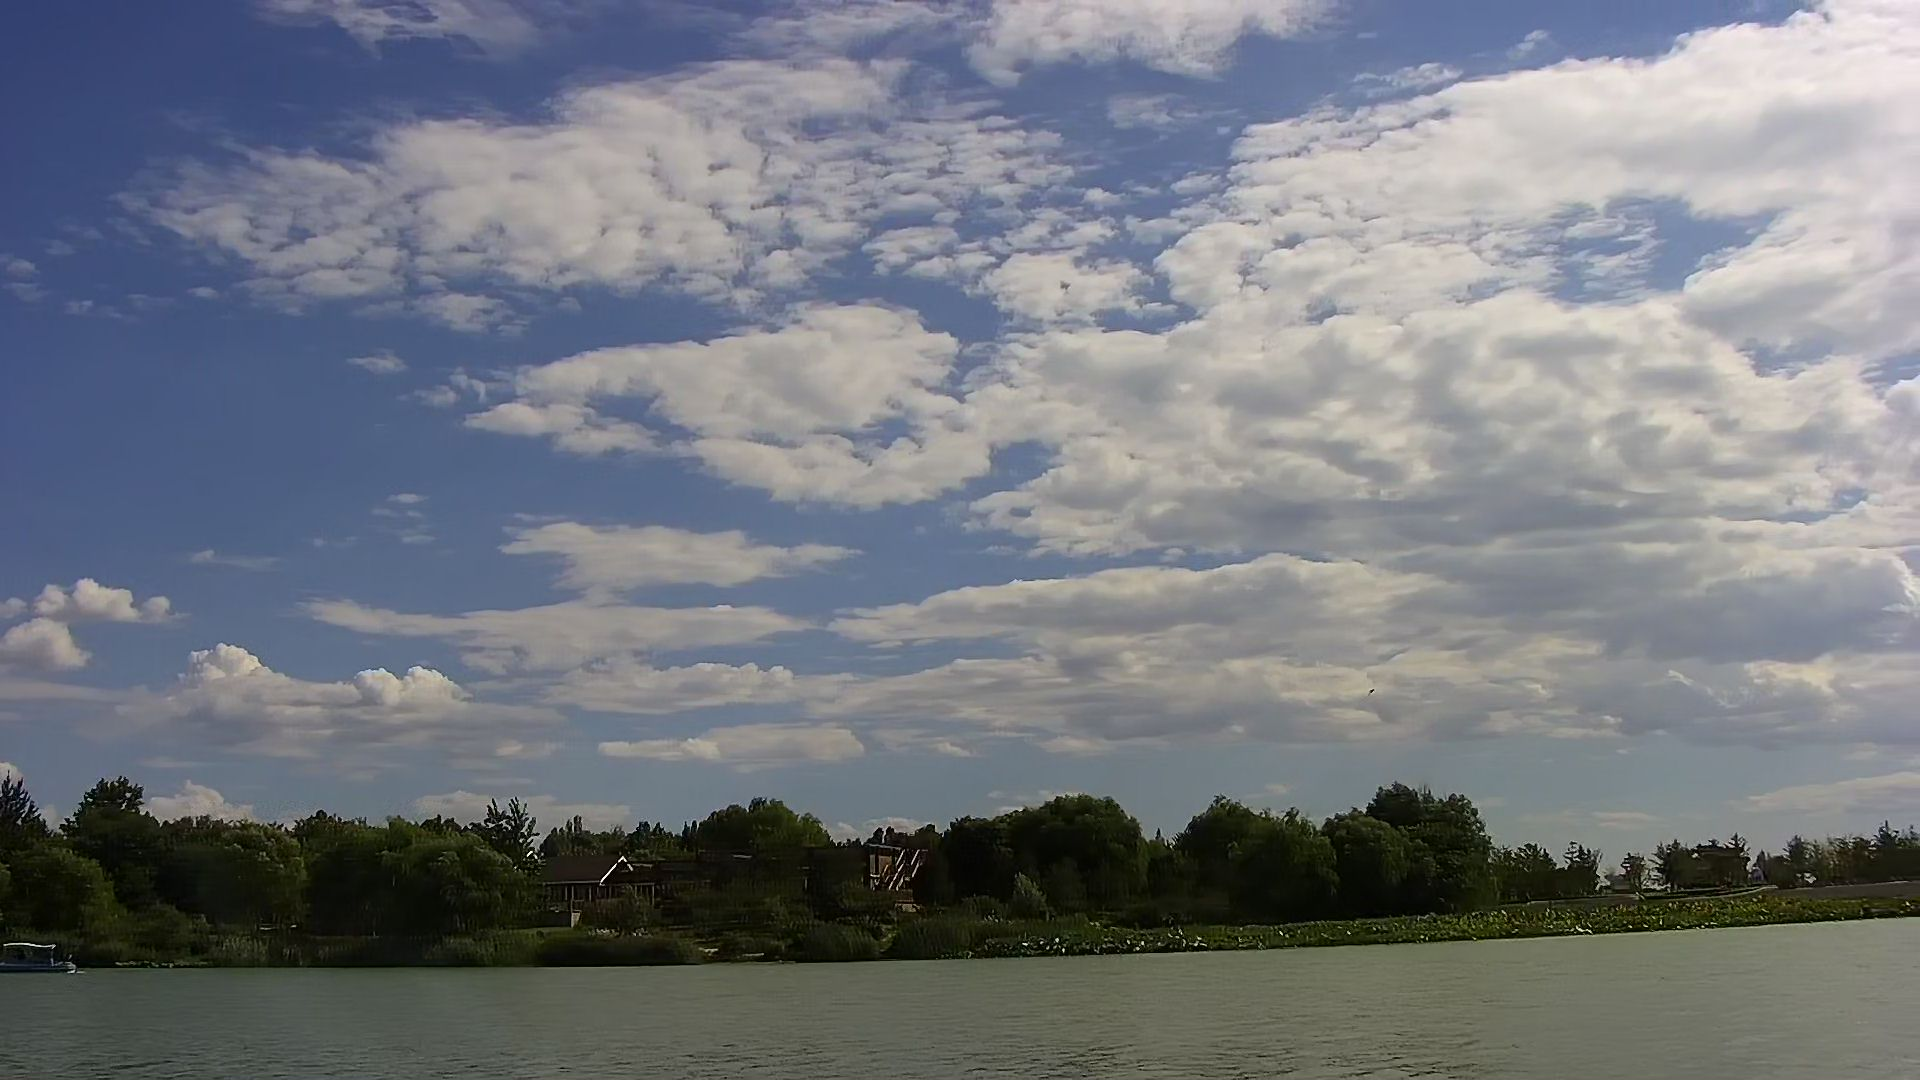boat: (3, 942, 73, 976)
grass: (1043, 885, 1908, 949)
